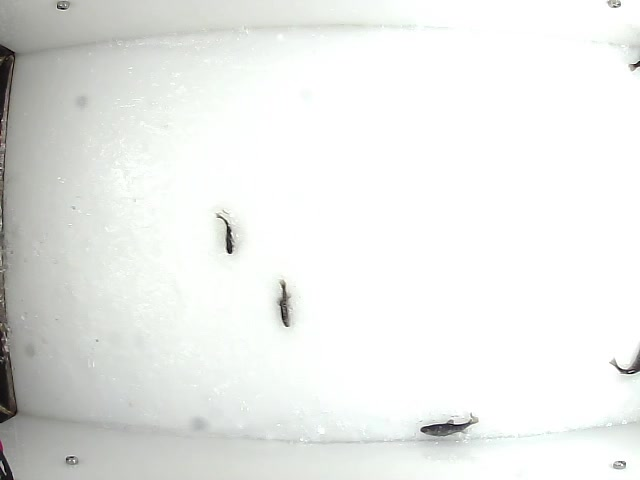fish: (418, 412, 479, 438), (213, 212, 236, 256), (273, 278, 293, 327)
